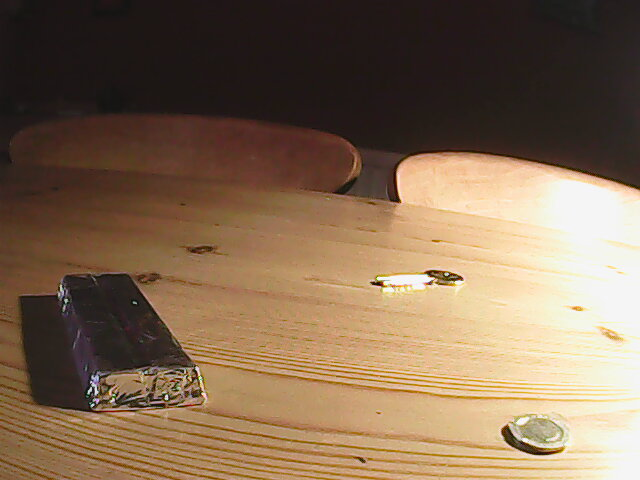Coin: (505, 407, 574, 455)
Foil: (54, 271, 209, 408)
Key: (373, 268, 471, 294)
